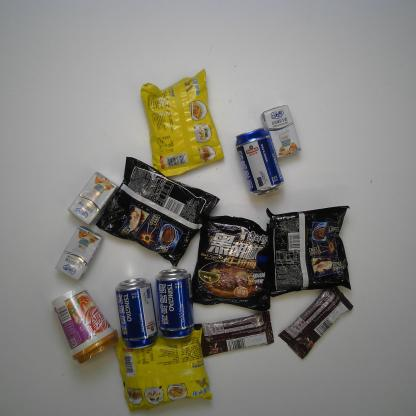Alcohol: (235, 127, 288, 198), (114, 274, 159, 352), (155, 266, 195, 343)
Chocolate: (277, 282, 354, 361), (194, 312, 275, 363)
Instant Drink: (50, 285, 121, 367)
Instant Noodles: (96, 156, 221, 266), (139, 67, 227, 180), (112, 320, 214, 413), (264, 201, 352, 302), (191, 211, 275, 314)
Milk: (66, 170, 122, 228), (53, 227, 105, 282), (261, 102, 303, 162)
